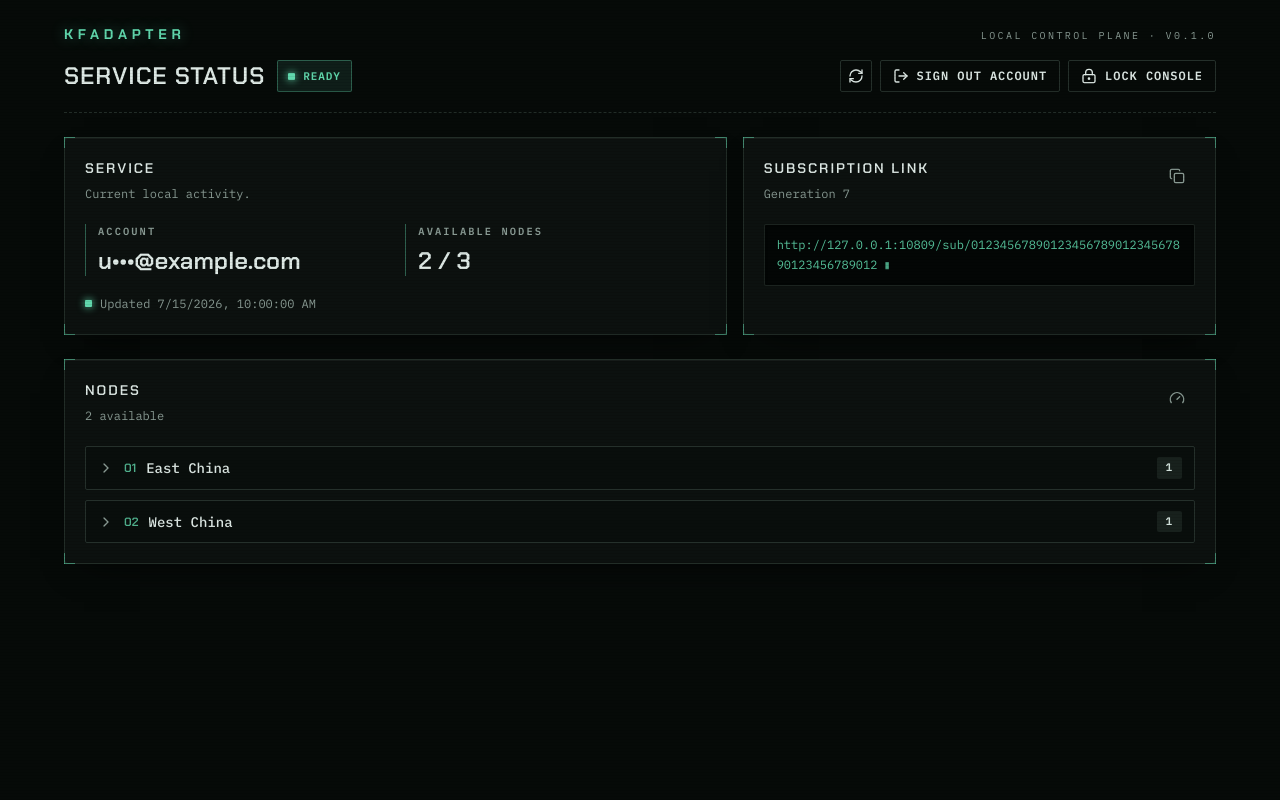
node inventory › uses canonical status routing and fetches safe SOCKS details only when opened
Check: the heading "Service status" is shown, box x1=64 y1=60 x2=265 y2=92
Click the text "West China" at (190, 522), box x1=148 y1=512 x2=232 y2=530
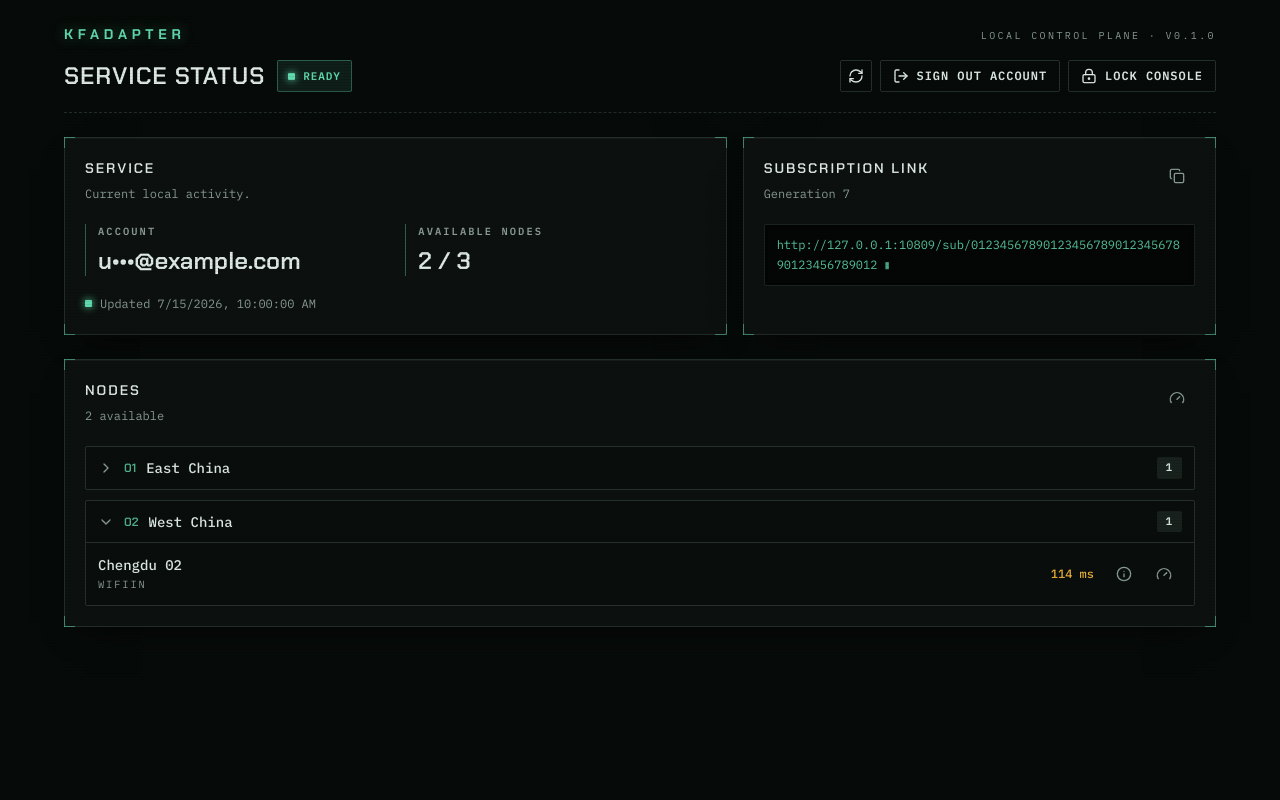
Check: the button named "Details for Chengdu 02" is shown
Check: the button named "Probe Chengdu 02" is shown, box x1=1146 y1=556 x2=1182 y2=592
Check: the 2nd icon with class "lucide-gauge" is shown, box x1=1156 y1=566 x2=1172 y2=582
Hover over the button named "Details for Chengdu 02" at (1124, 574), box x1=1106 y1=556 x2=1142 y2=592
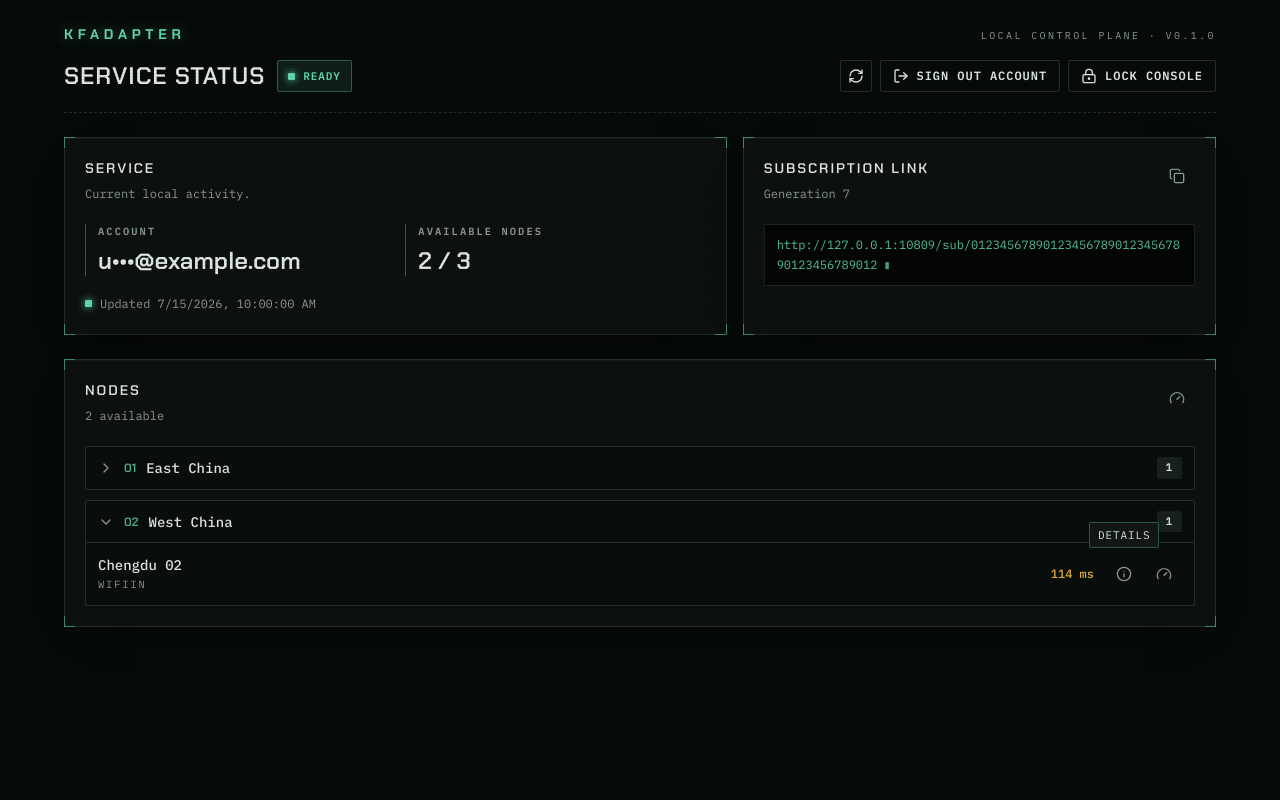
Check: the tooltip "Details" is shown, box x1=1089 y1=522 x2=1159 y2=548
Hover over the button named "Probe Chengdu 02" at (1164, 574), box x1=1146 y1=556 x2=1182 y2=592
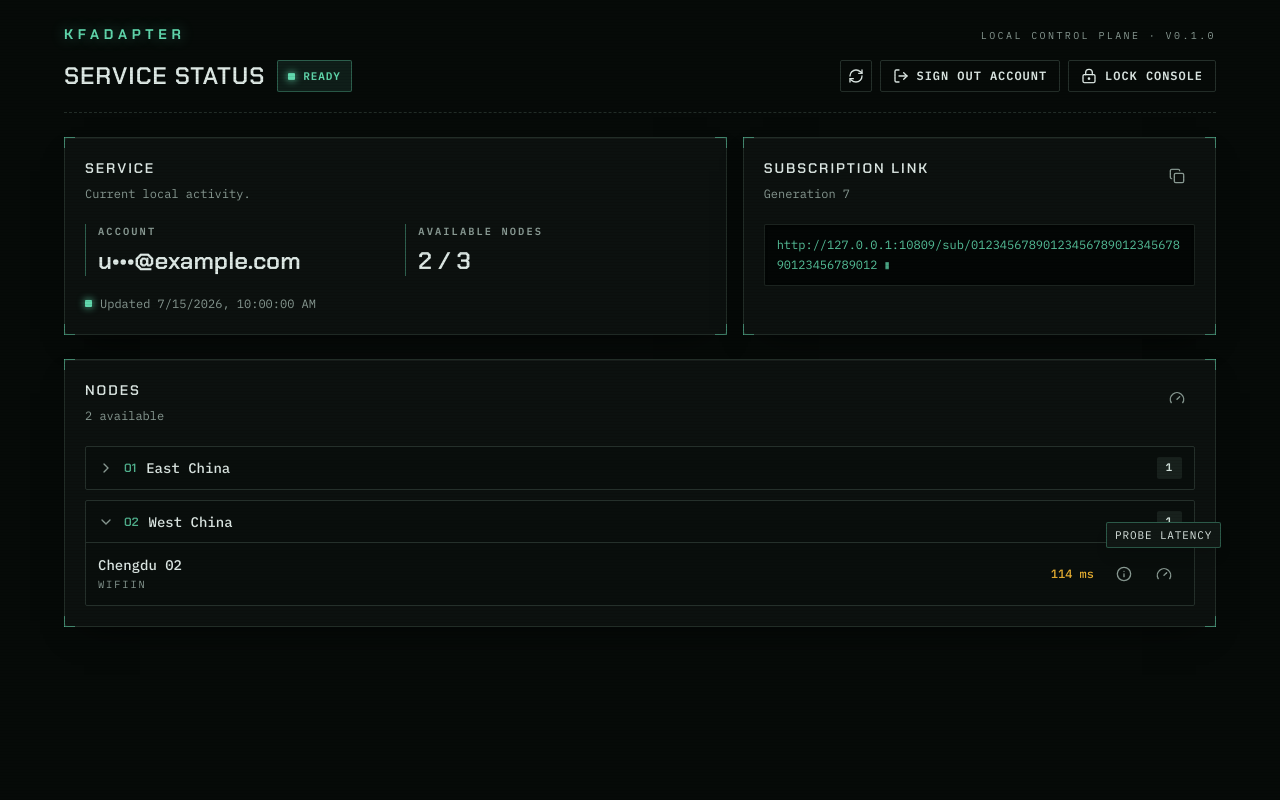
Check: the tooltip "Probe latency" is shown, box x1=1106 y1=522 x2=1221 y2=548
Click the button named "Details for Chengdu 02" at (1124, 574), box x1=1106 y1=556 x2=1142 y2=592
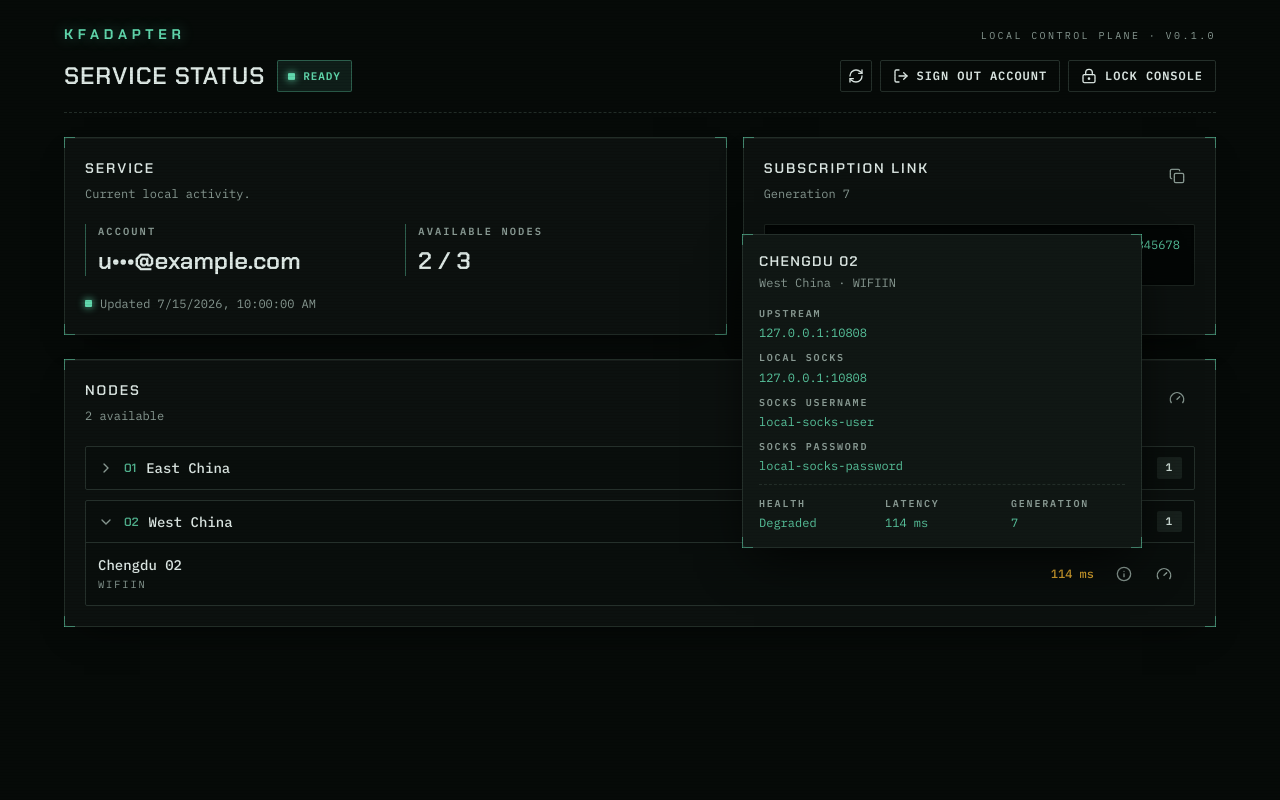
Check: the heading "Chengdu 02" is shown, box x1=759 y1=252 x2=859 y2=270
Check: the text "127.0.0.1:10808" below "Upstream" is shown, box x1=759 y1=325 x2=867 y2=340
Check: the text "local-socks-user" is shown, box x1=759 y1=414 x2=874 y2=429
Click the button named "Details for Chengdu 02" at (1124, 574), box x1=1106 y1=556 x2=1142 y2=592
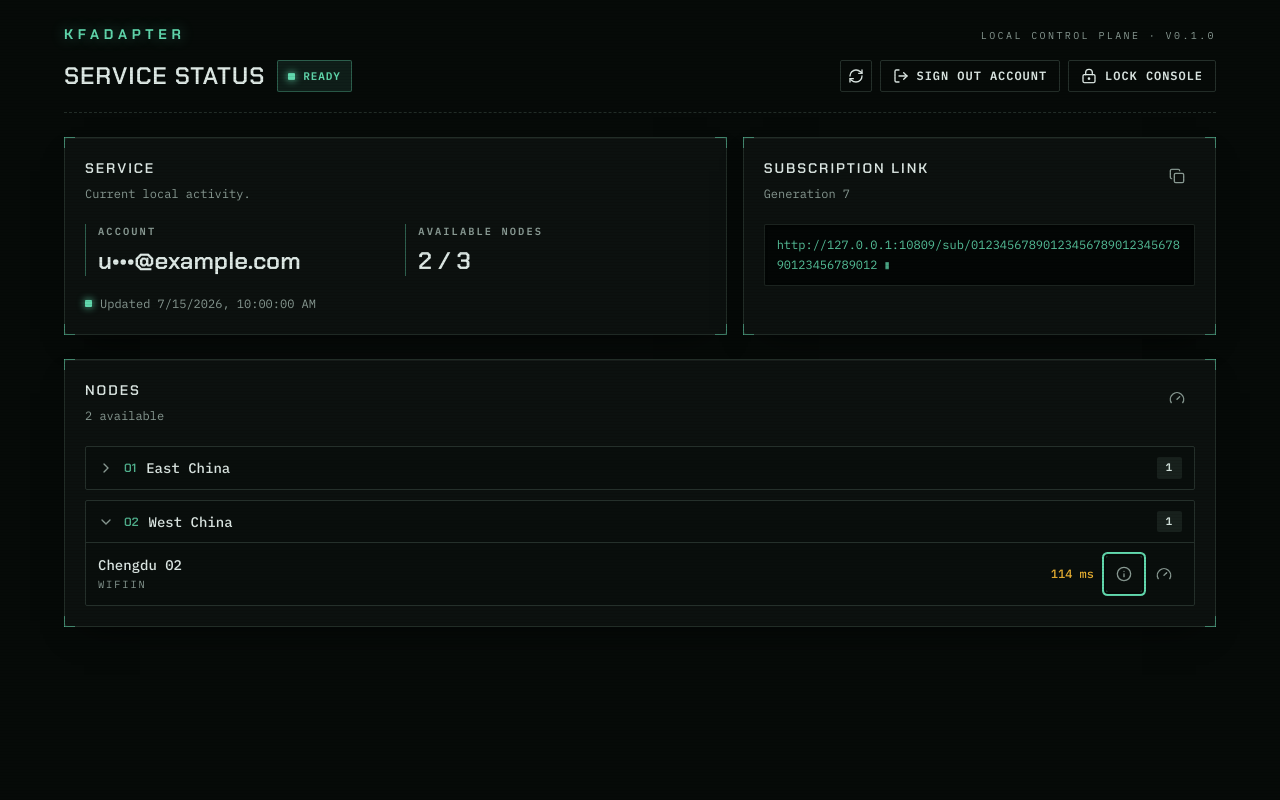
Check: the text "local-socks-password" is gone
